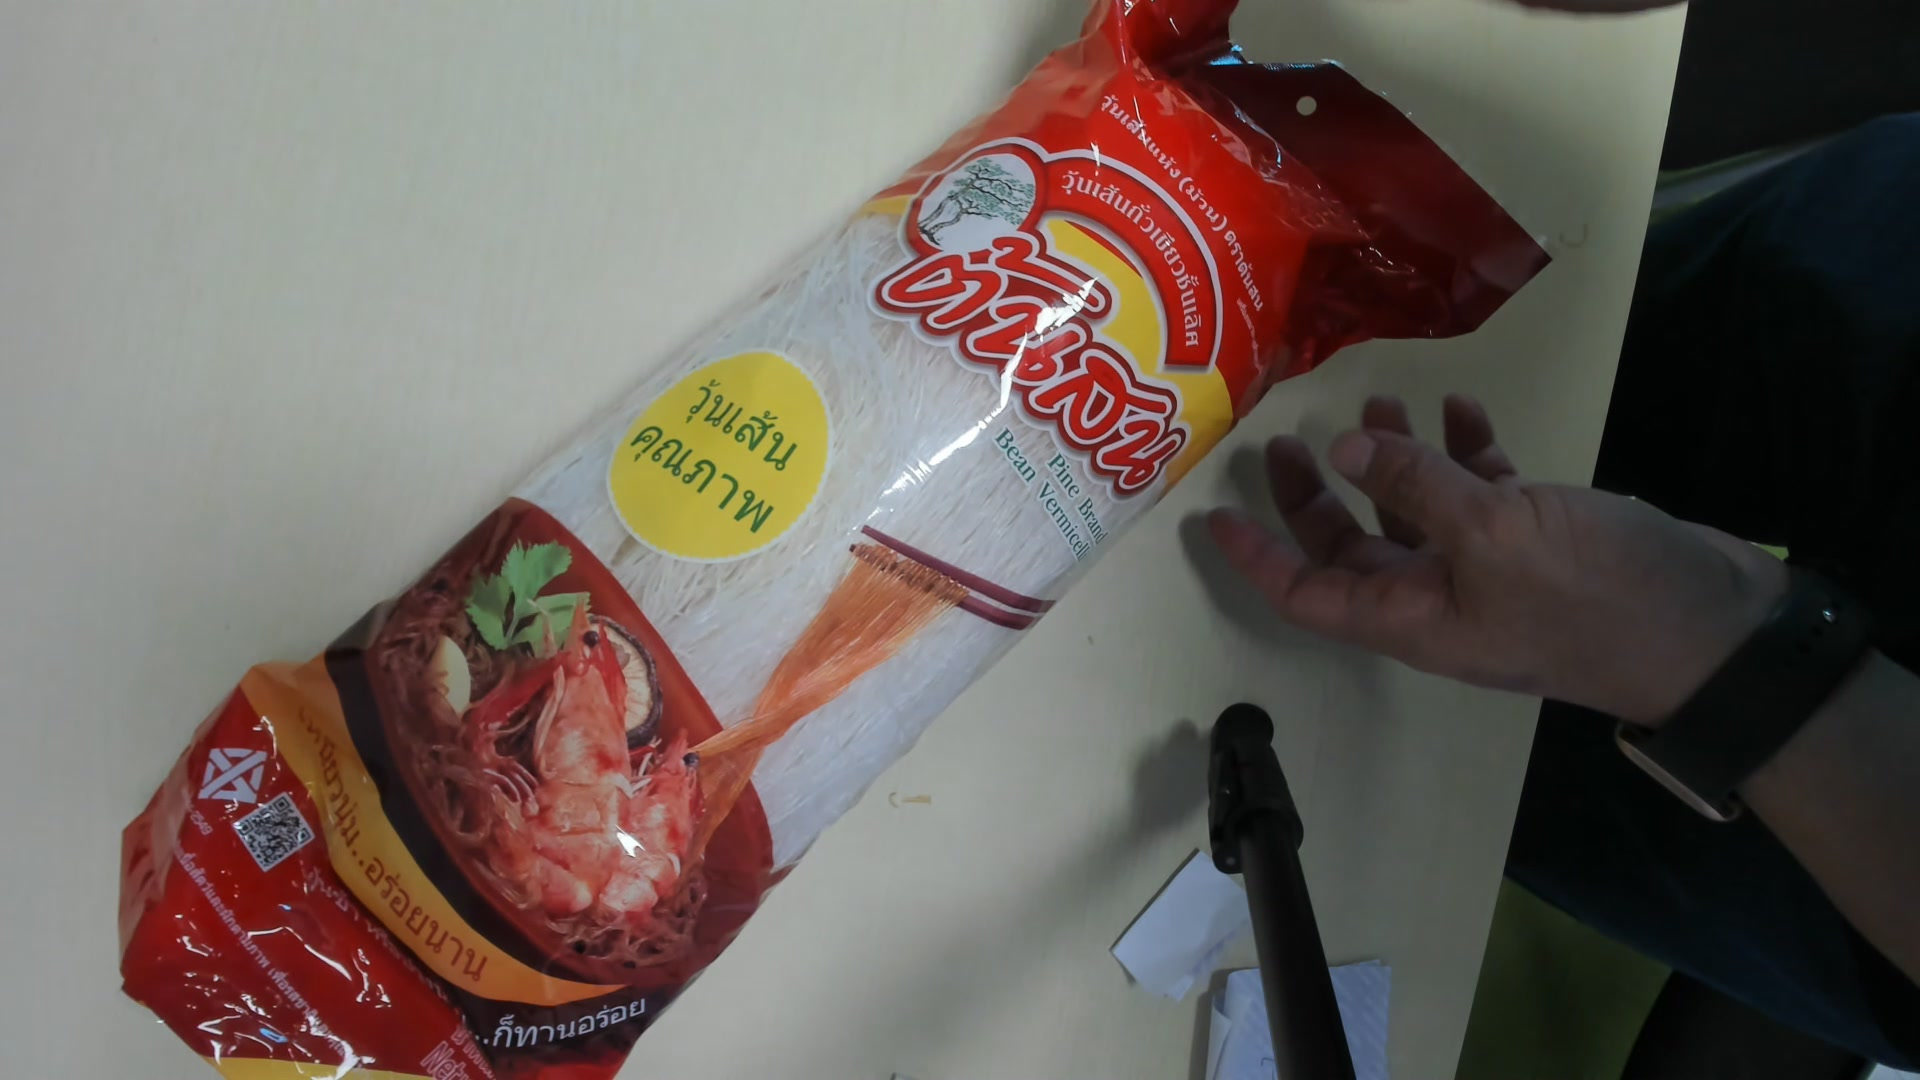BeeHoonVermicelli_500-599g_Halal_NonHealthy: (100, 7, 1542, 1080)
